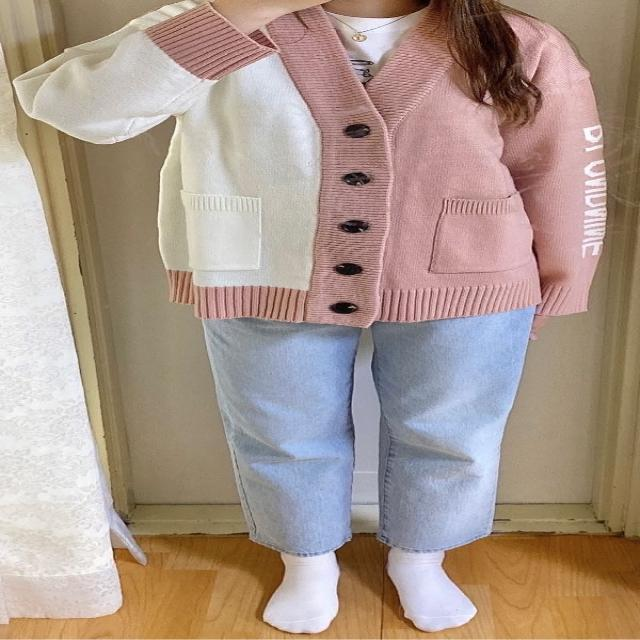cardigan: (12, 0, 602, 328)
denimpants: (196, 301, 538, 556)
